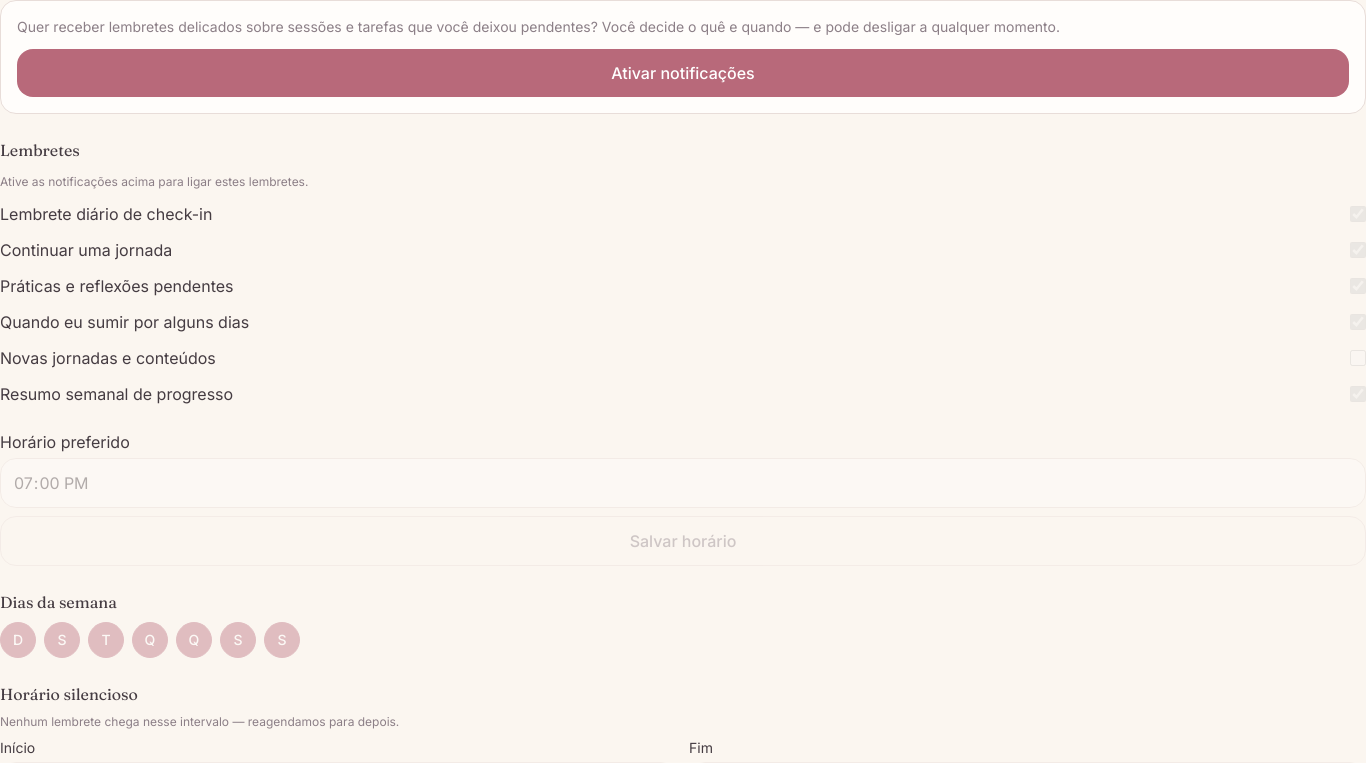
Test: NotificacoesForm › clicar em "Ativar notificações" e a permissão ser concedida: mostra "Ativadas" e libera os lembretes
The image size is (1366, 763).
Click the button "Ativar notificações" at (683, 73), box x1=17 y1=49 x2=1349 y2=97
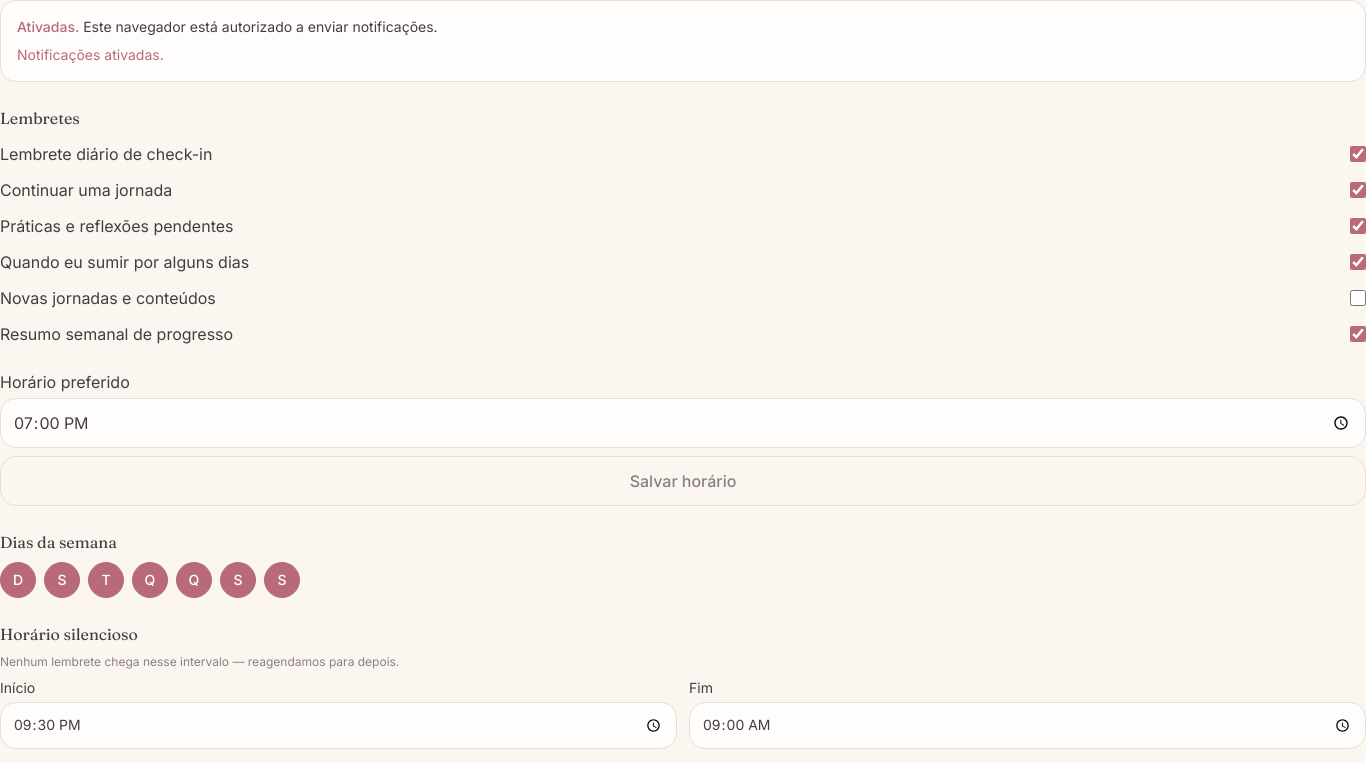
Expected: the checkbox labelled "Lembrete diário de check-in" is enabled, x1=1350 y1=146 x2=1365 y2=162
Now the text "Ativadas." is shown, box x1=17 y1=18 x2=79 y2=35
